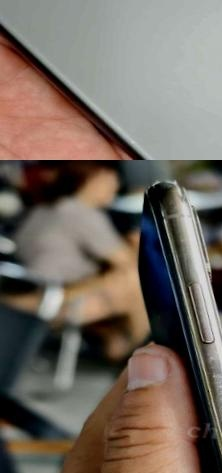scratch: (186, 343, 222, 466), (144, 168, 185, 199), (170, 226, 195, 259), (154, 307, 171, 329)
